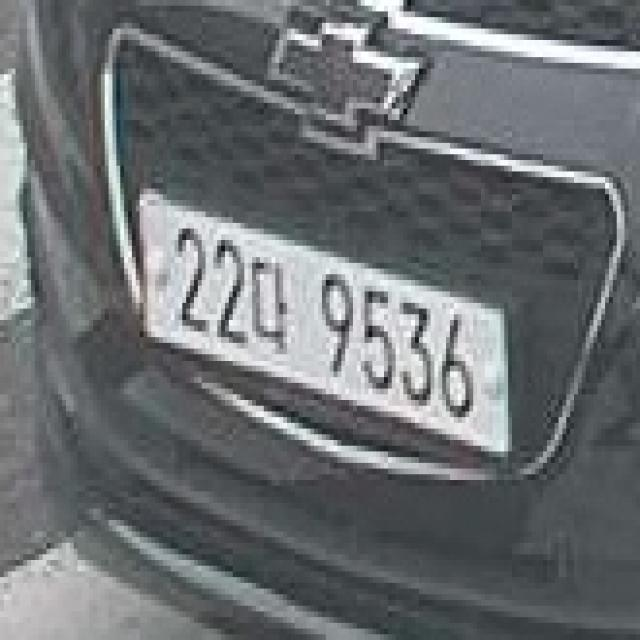2: (170, 219, 213, 342), (211, 232, 250, 353)
3: (399, 291, 437, 413)
5: (360, 275, 399, 400)
6: (443, 301, 486, 429)
9: (315, 265, 356, 384)
da: (249, 249, 295, 363)
license_plate: (144, 189, 509, 453)
